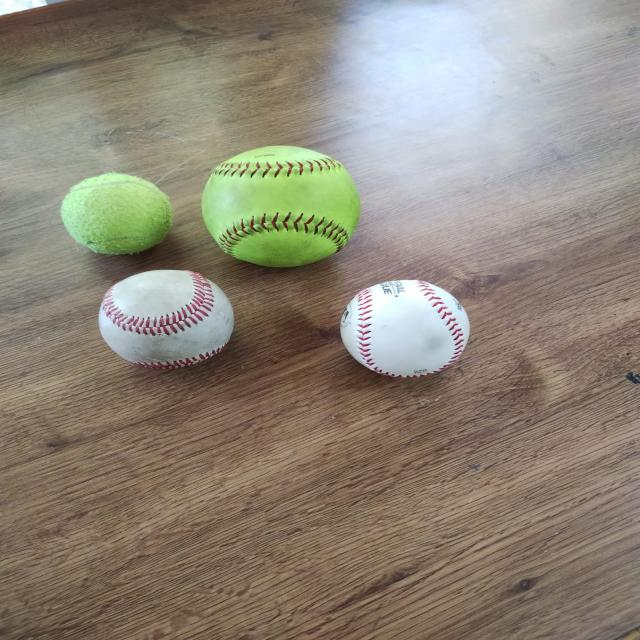beisbol ball: (96, 267, 239, 373), (337, 275, 472, 382)
softball ball: (200, 142, 361, 272)
tenis ball: (58, 170, 174, 258)
